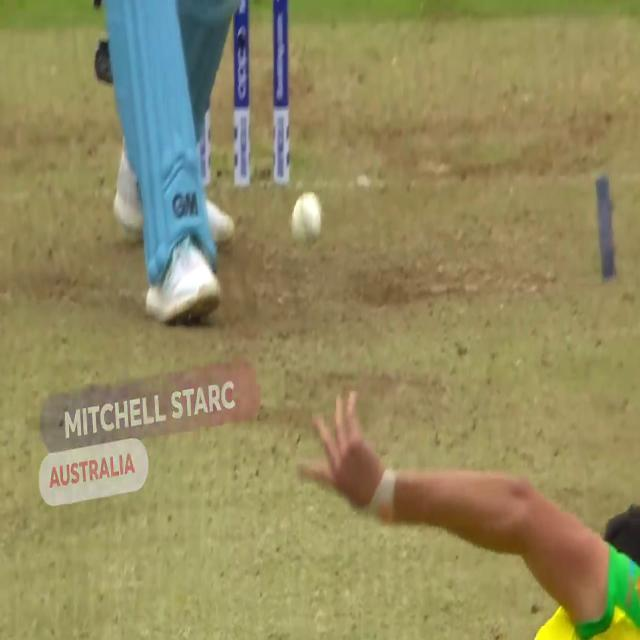ball: (291, 189, 323, 251)
